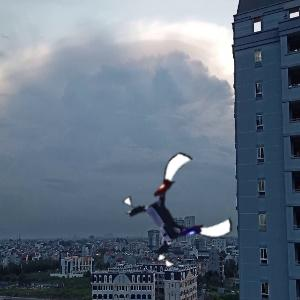drone: (128, 161, 227, 260)
